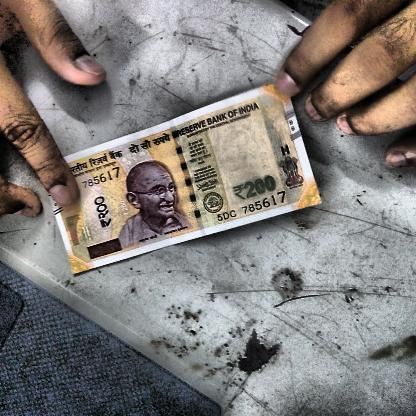Rs200: (228, 171, 283, 206)
